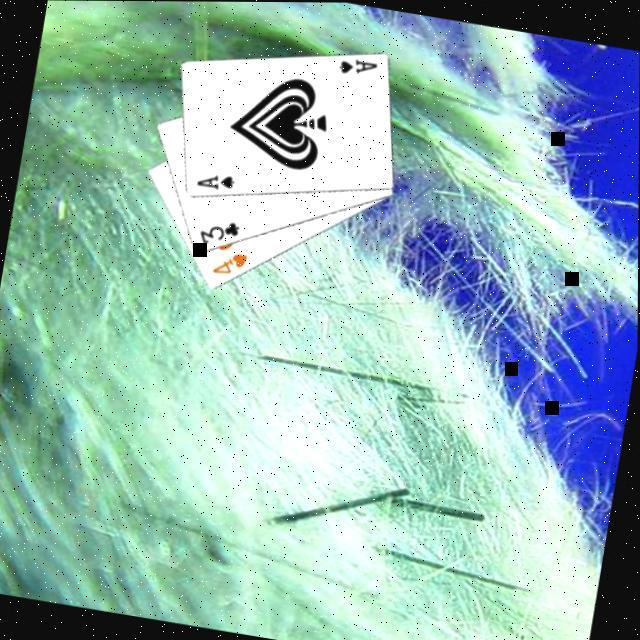3C: (196, 213, 244, 251)
4H: (210, 245, 252, 281)
AS: (335, 52, 382, 81), (193, 166, 239, 194)
